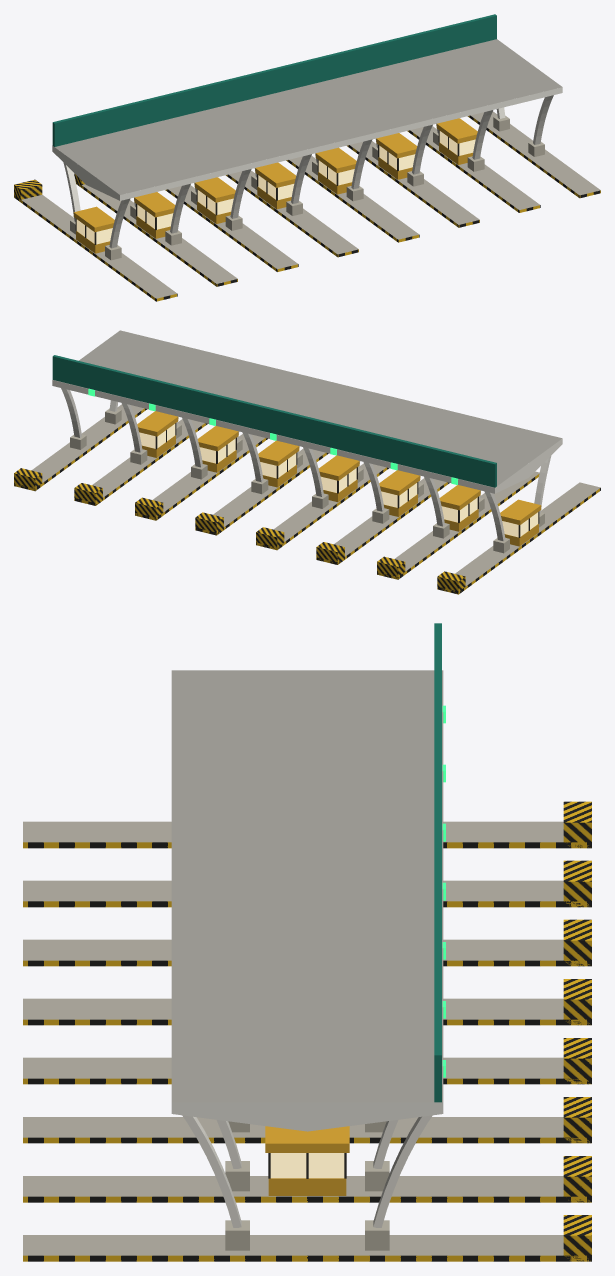
Rendered from m2_toll_plaza_canopy.glb.
3 renders of one model, top to bottom at view 1: azimuth 30°, elevation 25°; view 2: azimuth 150°, elevation 25°; view 3: azimuth 270°, elevation 25°, orthographic. The views are drawn at different scales.
Visible parts, largest first — view 1: m_roof_grey, m_island_top, m_sign_green, m_booth_yellow, m_strut_white, m_curb_stripe, m_beam_white, m_booth_glass, m_plinth_concrete, m_booth_frame, m_nose_chevron; view 2: m_roof_grey, m_sign_green, m_island_top, m_booth_yellow, m_nose_chevron, m_strut_white, m_curb_stripe, m_beam_white, m_booth_glass, m_plinth_concrete, m_booth_frame; view 3: m_roof_grey, m_island_top, m_curb_stripe, m_nose_chevron, m_beam_white, m_sign_green, m_strut_white, m_booth_yellow, m_plinth_concrete, m_booth_glass.
Boxes of the visible parts, x1,y1,x2,y2 form: m_roof_grey: (55, 39, 562, 194); m_island_top: (21, 111, 600, 298); m_sign_green: (52, 14, 496, 146); m_booth_yellow: (73, 118, 477, 253); m_strut_white: (63, 95, 553, 248); m_curb_stripe: (14, 115, 600, 301); m_beam_white: (52, 87, 562, 200); m_booth_glass: (76, 131, 475, 244); m_plinth_concrete: (70, 116, 544, 260); m_booth_frame: (75, 130, 459, 244); m_nose_chevron: (14, 173, 84, 201); m_roof_grey: (53, 330, 562, 487); m_sign_green: (52, 355, 496, 487); m_island_top: (31, 404, 600, 586); m_booth_yellow: (137, 411, 541, 546); m_nose_chevron: (14, 468, 465, 593); m_strut_white: (61, 388, 551, 541); m_curb_stripe: (14, 408, 600, 594); m_beam_white: (52, 380, 562, 493); m_booth_glass: (139, 424, 538, 537); m_plinth_concrete: (70, 408, 544, 553); m_booth_frame: (155, 423, 539, 537); m_roof_grey: (171, 670, 443, 1102); m_island_top: (23, 821, 563, 1255); m_curb_stripe: (23, 842, 591, 1261); m_nose_chevron: (563, 801, 591, 1261); m_beam_white: (171, 1102, 443, 1131); m_sign_green: (434, 623, 441, 1102); m_strut_white: (182, 1115, 432, 1227); m_booth_yellow: (265, 1126, 349, 1195); m_plinth_concrete: (225, 1121, 389, 1250); m_booth_glass: (270, 1153, 344, 1178).
Size of the model in its own units: 39.77 by 8.75 by 22.
13 materials, 2 textured.
